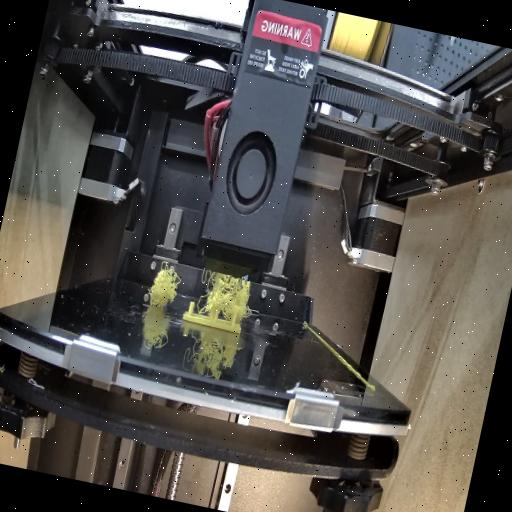spaghetti: (196, 266, 254, 322), (141, 264, 181, 314)
